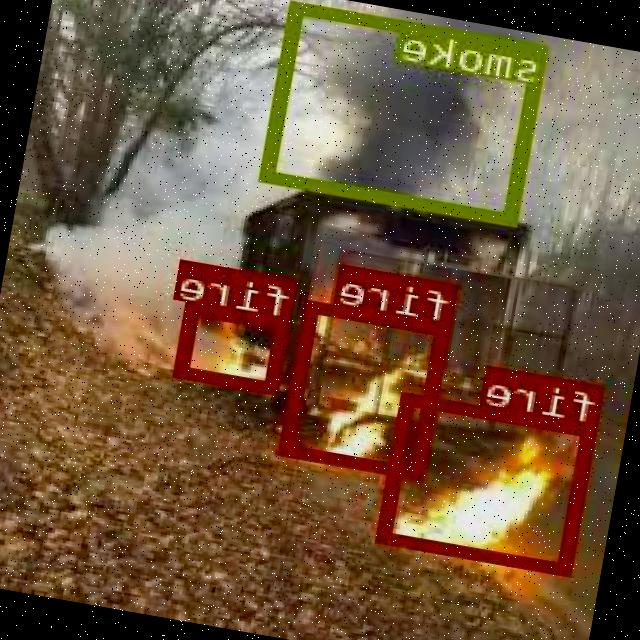fire: (379, 390, 600, 576), (282, 298, 454, 477), (178, 302, 293, 394)
smoke: (263, 0, 552, 225)
